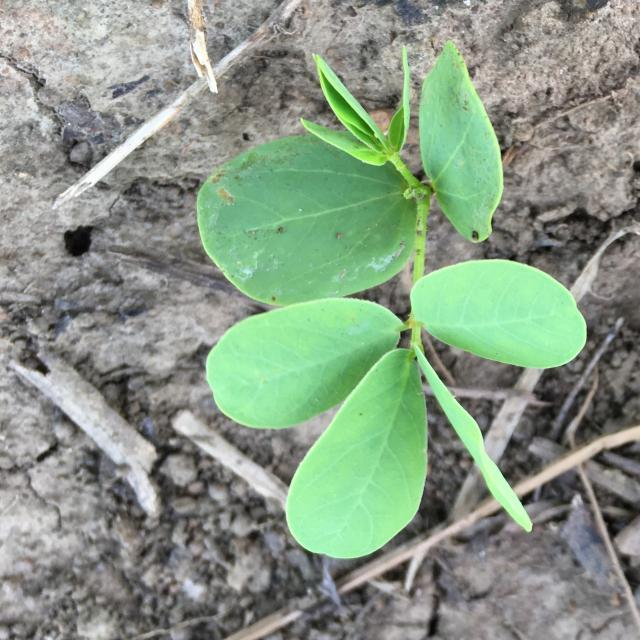Sicklepod: (196, 41, 587, 560)
